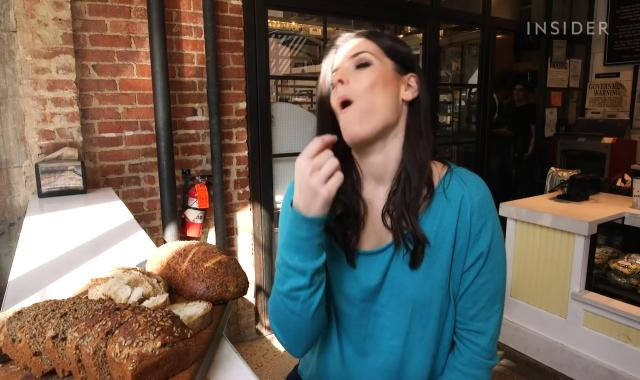no_hairnet: (317, 25, 421, 144)
